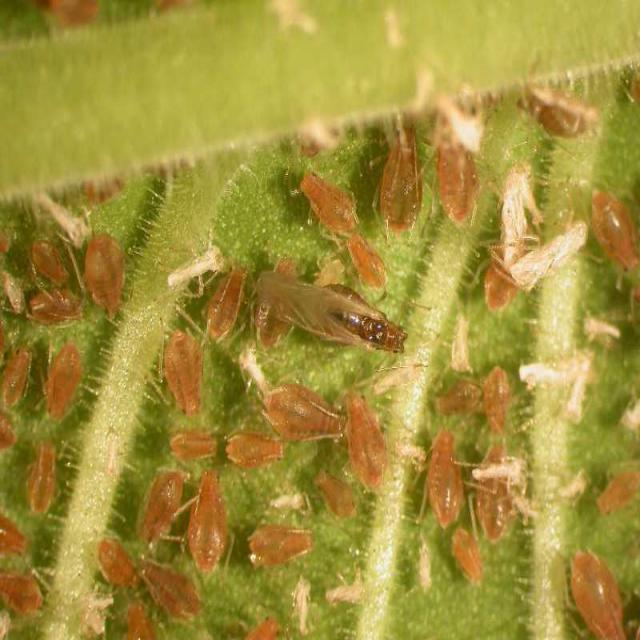Aphid-Grown-: (258, 370, 351, 457), (148, 318, 218, 426), (180, 471, 242, 581)
Aphid-Grown-have wings-: (250, 261, 418, 372)
